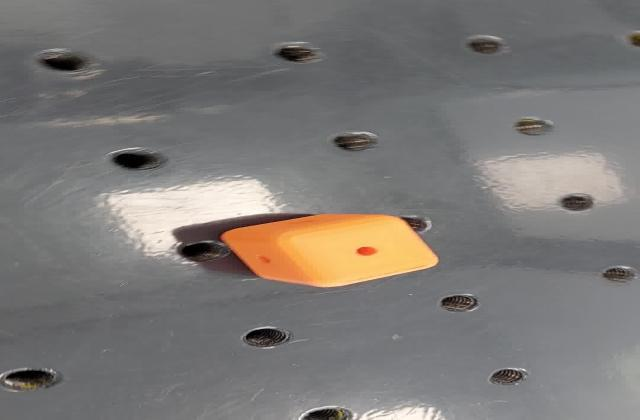cube: (210, 210, 444, 290)
